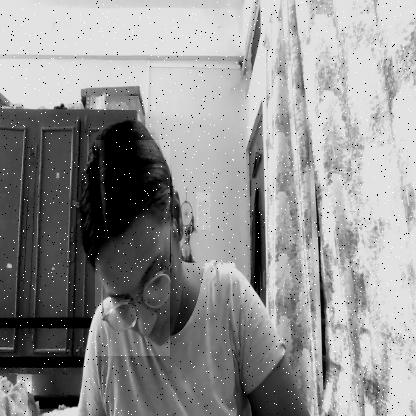Distracted: (95, 140, 170, 356)
